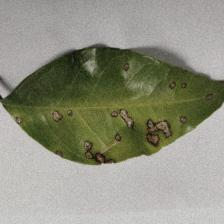canker: (5, 55, 215, 166)
